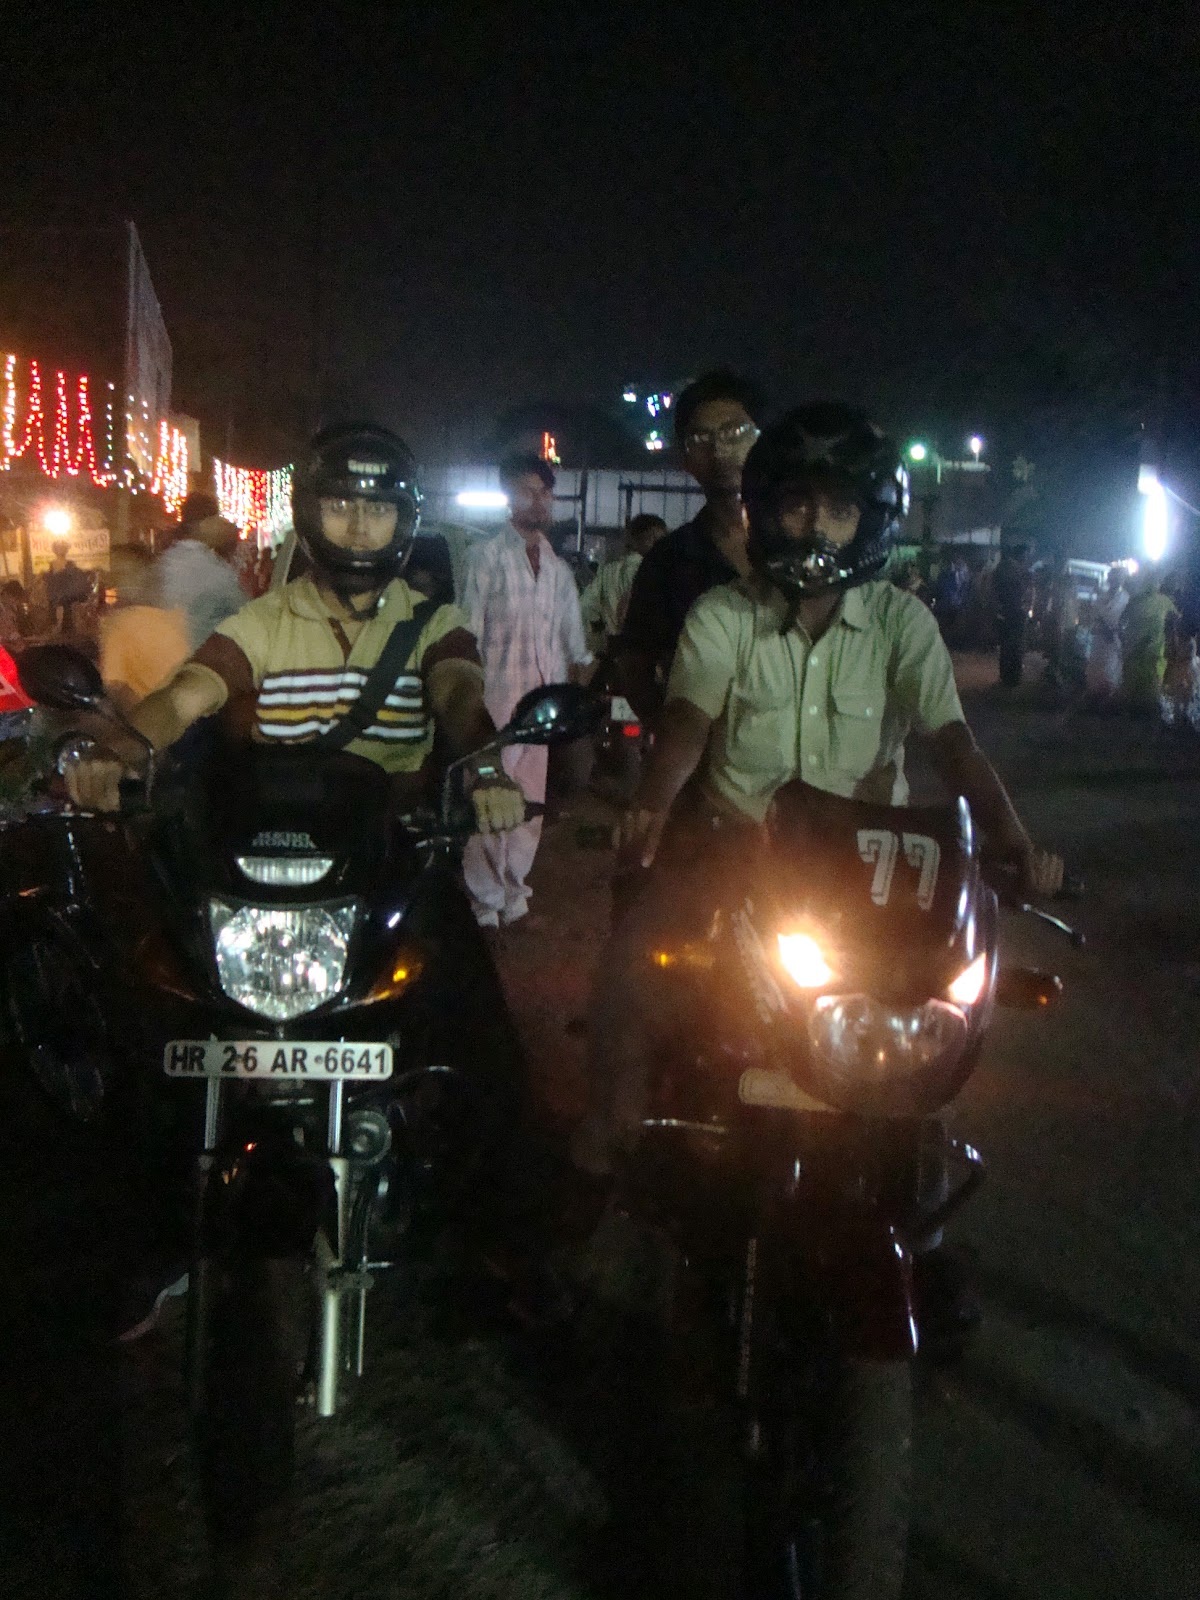bike: (626, 398, 1047, 1600), (135, 451, 527, 1553)
